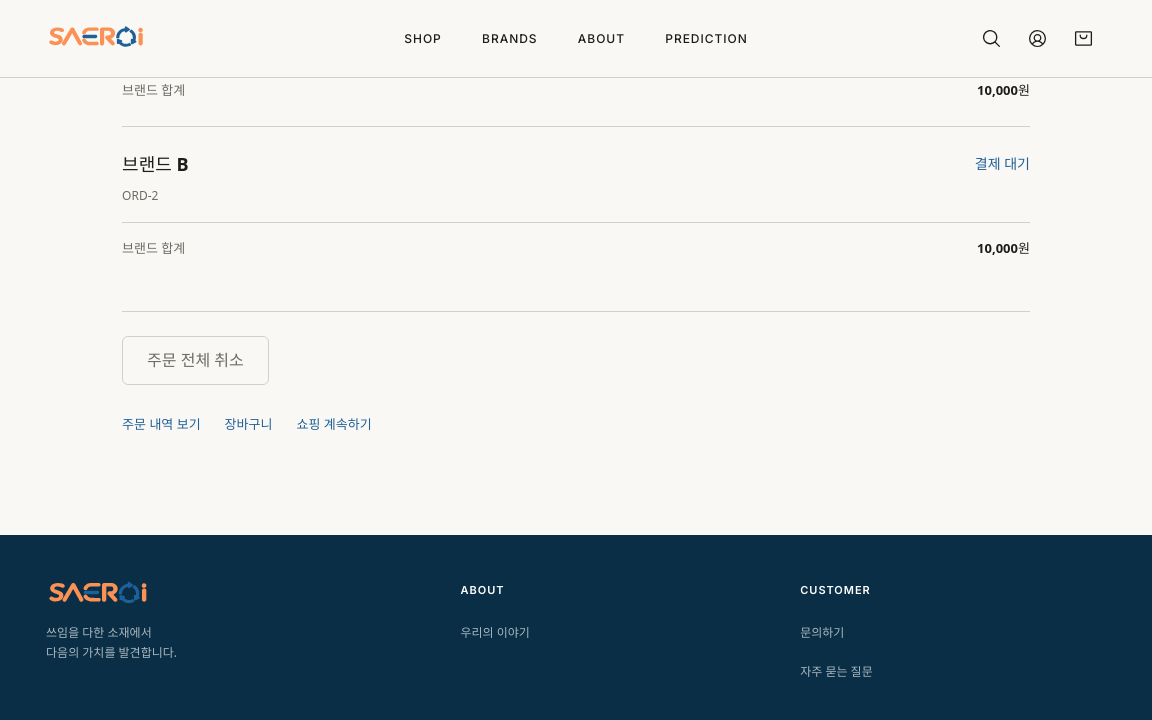
order group checkout › 결제한 묶음 취소는 주문 건수와 총 환불 금액을 알린다
The width and height of the screenshot is (1152, 720).
(page scrolled)
Click the button "주문 전체 취소" at (195, 361), box x1=122 y1=336 x2=269 y2=385
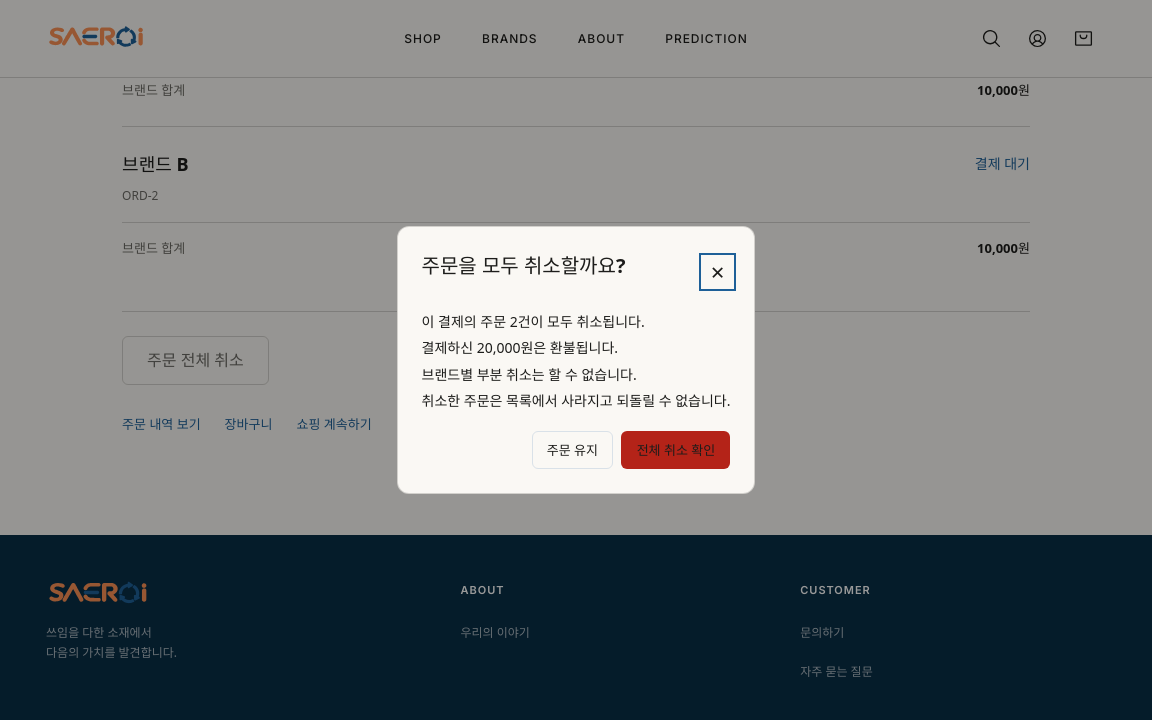
Expected: the dialog shows "주문 2건이 모두 취소", x1=422 y1=312 x2=730 y2=410
Expected: the dialog shows "결제하신 20,000원은 환불됩니다", x1=422 y1=312 x2=730 y2=410
